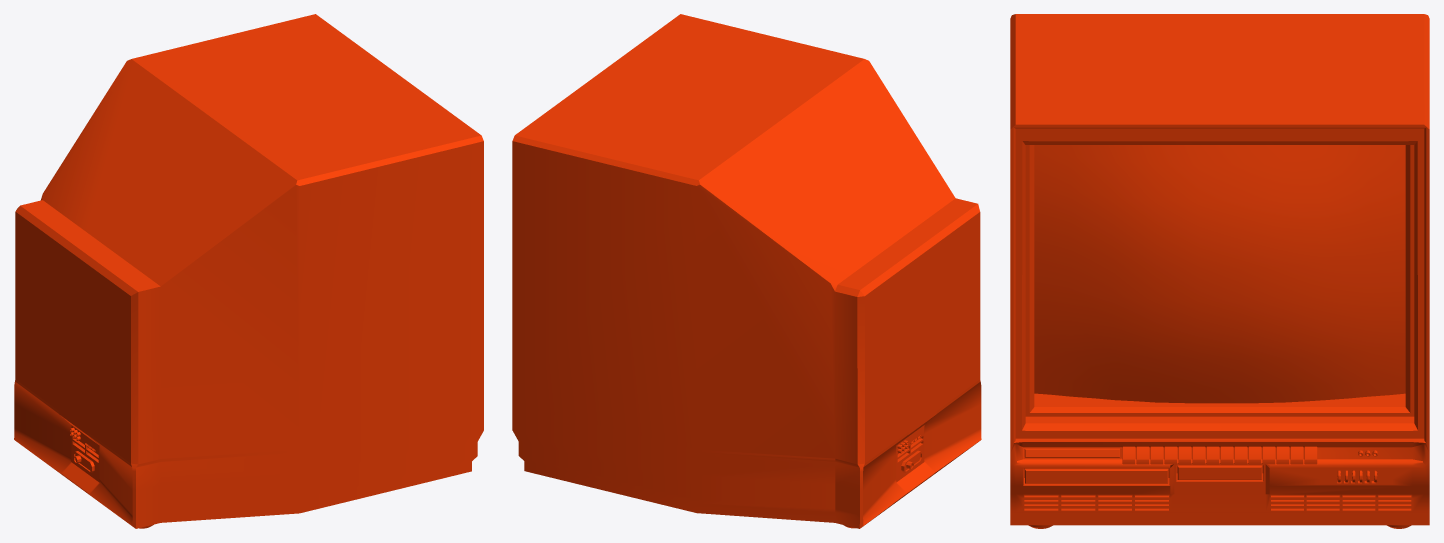
File: realtime.glb
3 views of the same model, side by side, from view 1: azimuth 30°, elevation 25°; view 2: azimuth 150°, elevation 25°; view 3: azimuth 270°, elevation 25° (orthographic). The views are drawn at different scales.
Visible parts, largest first — view 1: Cylinder; view 2: Cylinder; view 3: Cylinder.
Part boxes in pixels (bbox=[...]): Cylinder: bbox=[14, 14, 483, 528]; Cylinder: bbox=[512, 14, 981, 528]; Cylinder: bbox=[1010, 14, 1429, 528].
Size of the model in its own units: 2.22 by 2.19 by 2.
